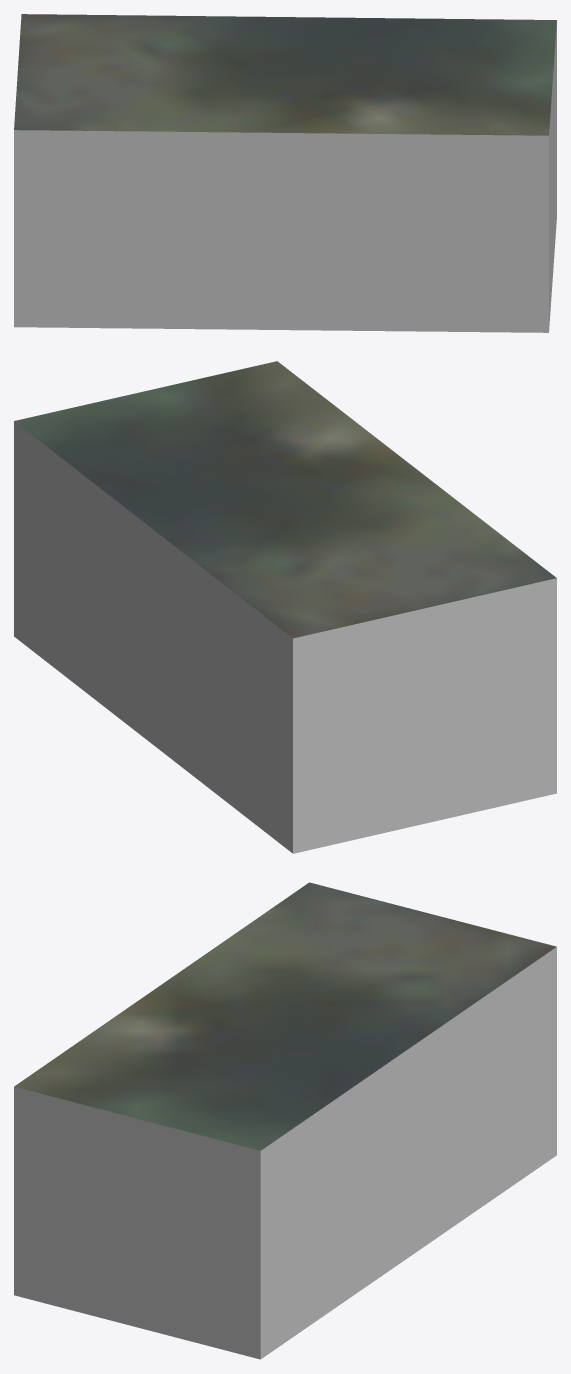
File: DEBW_0010007TxcE.gltf
3 views of the same model, one above another, from view 1: azimuth 30°, elevation 25°; view 2: azimuth 150°, elevation 25°; view 3: azimuth 270°, elevation 25° (orthographic). The views are drawn at different scales.
Parts seen in each view (by area): view 1: Z_UP; view 2: Z_UP; view 3: Z_UP.
Part boxes in pixels (x1,y1,x2,y2): Z_UP: (14, 14, 556, 332); Z_UP: (14, 361, 556, 853); Z_UP: (14, 882, 556, 1359).
Size of the model in its own units: 6.39 by 2.32 by 5.46.
2 materials, 1 textured.
